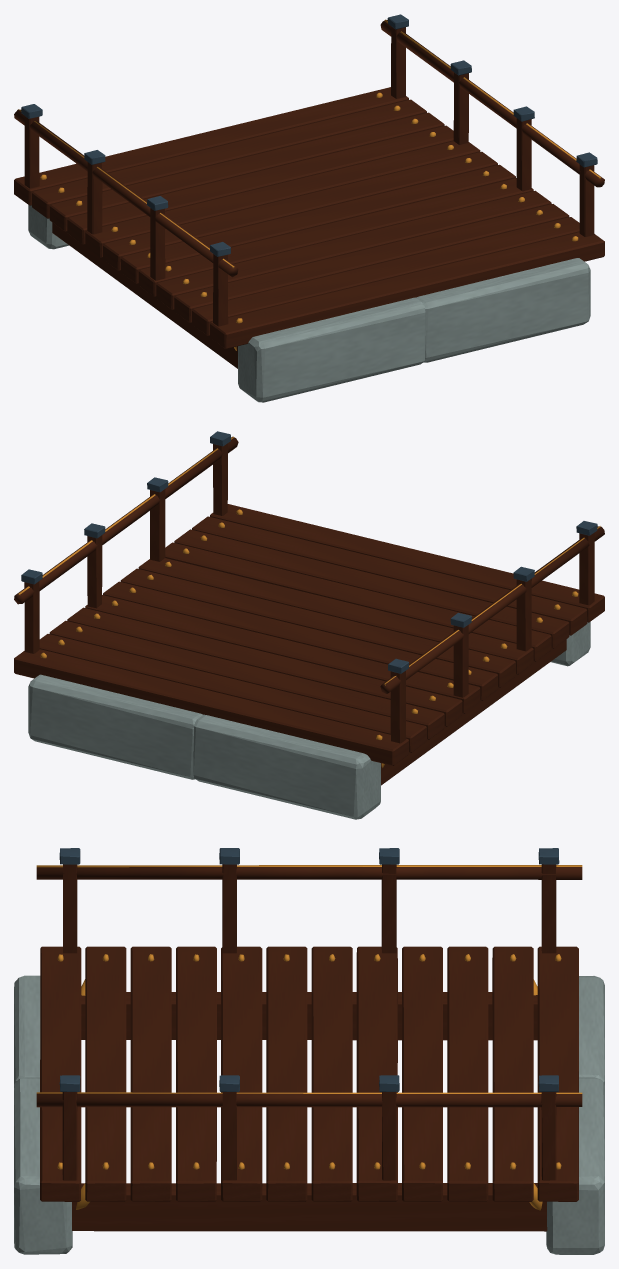
Rendered from SM_bridge_LOD2.fbx.
3 views of the same model, one above another, from view 1: azimuth 30°, elevation 25°; view 2: azimuth 150°, elevation 25°; view 3: azimuth 270°, elevation 25° (orthographic). The views are drawn at different scales.
Visible parts, largest first — view 1: SM_bridge_LOD2; view 2: SM_bridge_LOD2; view 3: SM_bridge_LOD2.
Boxes of the visible parts, bbox=[...] form: SM_bridge_LOD2: bbox=[14, 14, 604, 402]; SM_bridge_LOD2: bbox=[14, 431, 604, 819]; SM_bridge_LOD2: bbox=[14, 848, 604, 1254].
Bounding box in the file's own units: 4.2 × 4.44 × 1.56.
